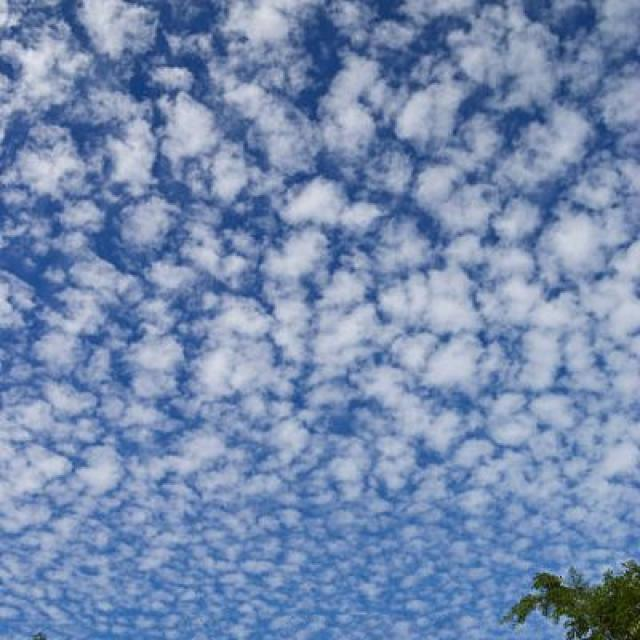Cc: (10, 16, 640, 470)
